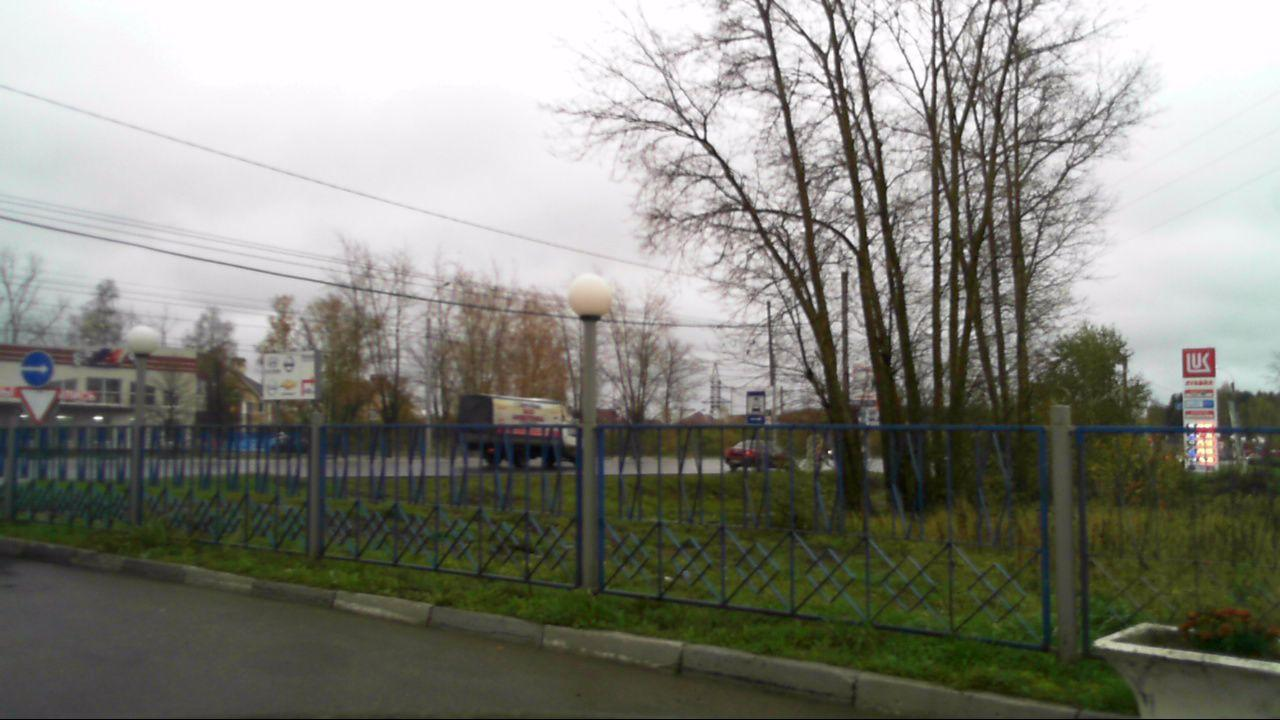7_5: (746, 385, 770, 424)
